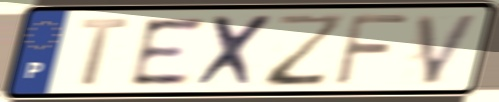E: (128, 15, 208, 88)
F: (330, 12, 412, 88)
T: (78, 16, 133, 88)
V: (414, 11, 484, 87)
X: (191, 12, 279, 89)
Z: (263, 12, 348, 89)
